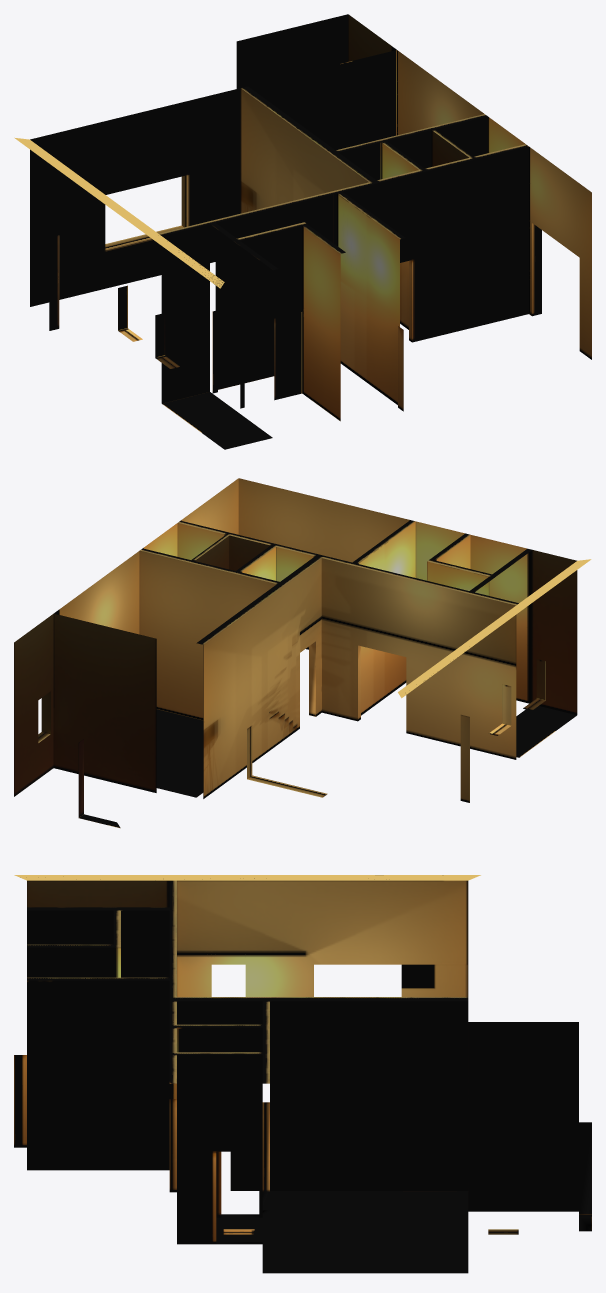
Rendered from INTERNOLUCI.glb.
The picture shows the model from 3 angles, top to bottom: view 1: azimuth 30°, elevation 25°; view 2: azimuth 150°, elevation 25°; view 3: azimuth 270°, elevation 25°; orthographic projection. The views are drawn at different scales.
Parts seen in each view (by area): view 1: solo interno-Mat.304; view 2: solo interno-Mat.304; view 3: solo interno-Mat.304.
Part boxes in pixels (left/top/right/bottom): solo interno-Mat.304: left=14, top=14, right=591, bottom=449; solo interno-Mat.304: left=14, top=478, right=591, bottom=828; solo interno-Mat.304: left=14, top=875, right=591, bottom=1273.
Size of the model in its own units: 107 by 44.05 by 122.
2 materials, 1 textured.
